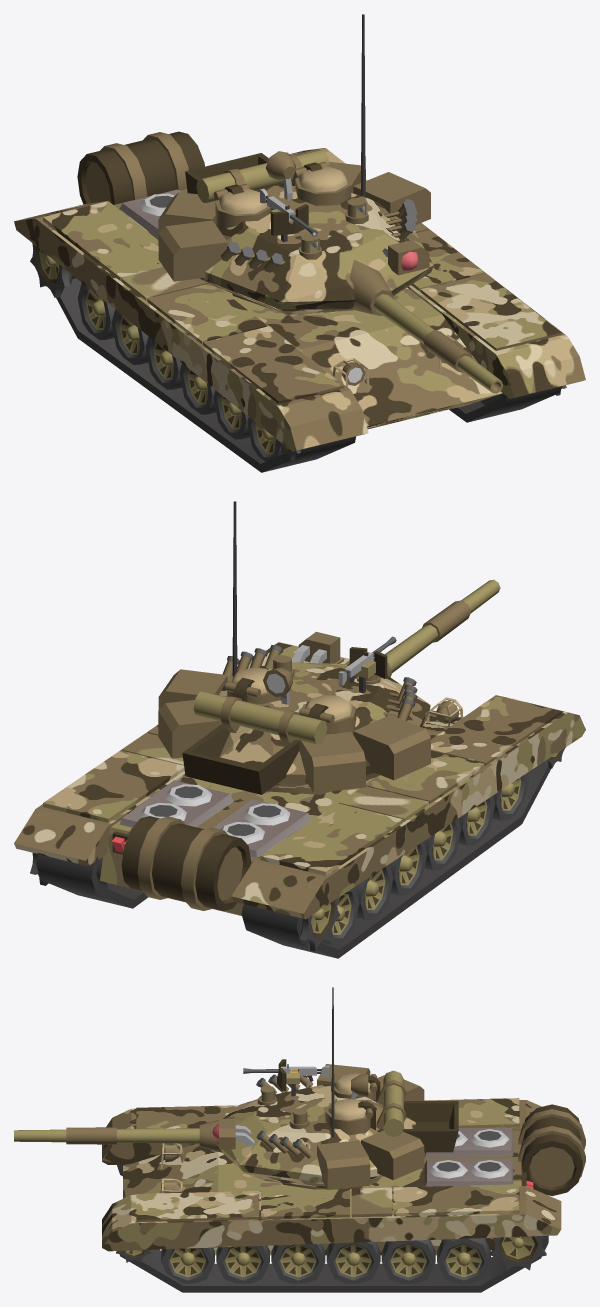
File: tank_001.glb
The picture shows the model from 3 angles, top to bottom: view 1: azimuth 30°, elevation 25°; view 2: azimuth 150°, elevation 25°; view 3: azimuth 270°, elevation 25°; orthographic projection. The views are drawn at different scales.
Visible parts, largest first — view 1: tank_001, tank_tower_001, tank_gun_001; view 2: tank_001, tank_tower_001, tank_gun_001; view 3: tank_001, tank_tower_001, tank_gun_001.
Part boxes in pixels (x1=…): tank_001: x1=14, y1=131, x2=585, y2=472; tank_tower_001: x1=158, y1=14, x2=433, y2=315; tank_gun_001: x1=349, y1=259, x2=503, y2=393; tank_001: x1=14, y1=642, x2=585, y2=958; tank_tower_001: x1=158, y1=501, x2=430, y2=794; tank_gun_001: x1=347, y1=579, x2=500, y2=677; tank_001: x1=102, y1=1098, x2=585, y2=1292; tank_tower_001: x1=212, y1=987, x2=458, y2=1189; tank_gun_001: x1=14, y1=1117, x2=245, y2=1152.
Bounding box in the file's own units: 4.96 × 5.62 × 10.45.
Materials: 2 (2 with a texture image).
